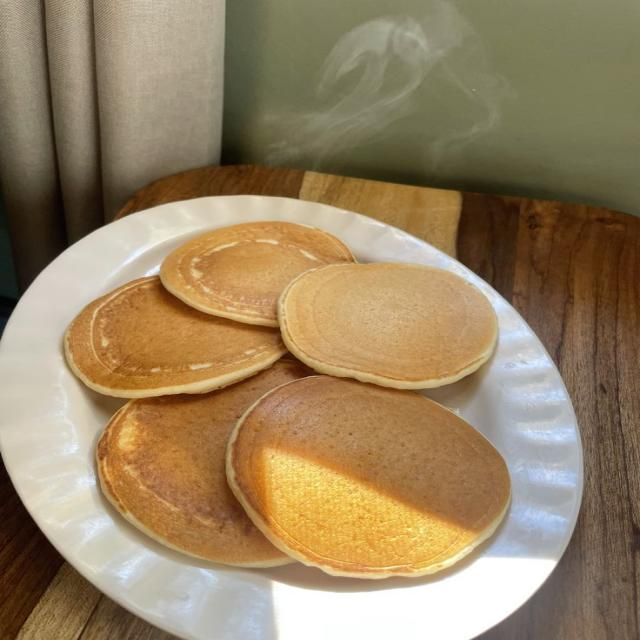pancake: (227, 377, 510, 578), (97, 361, 309, 566), (280, 263, 497, 388), (65, 276, 286, 397), (160, 222, 354, 326)
